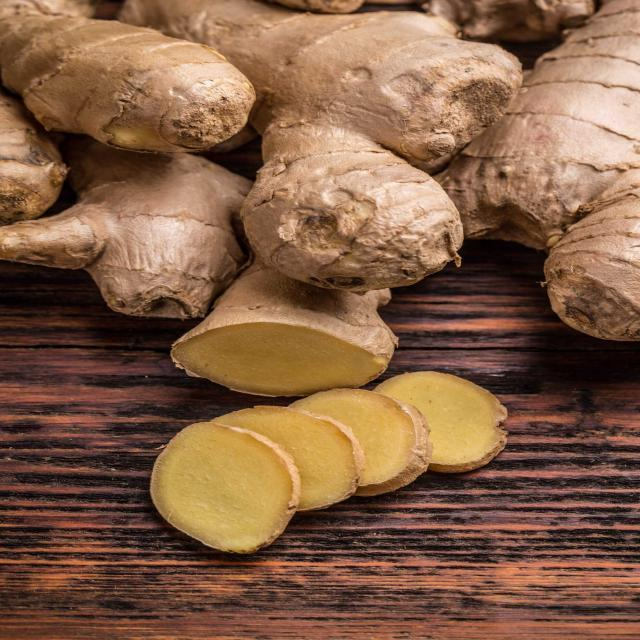ginger: (27, 24, 240, 298), (260, 15, 470, 278), (228, 312, 470, 520)
